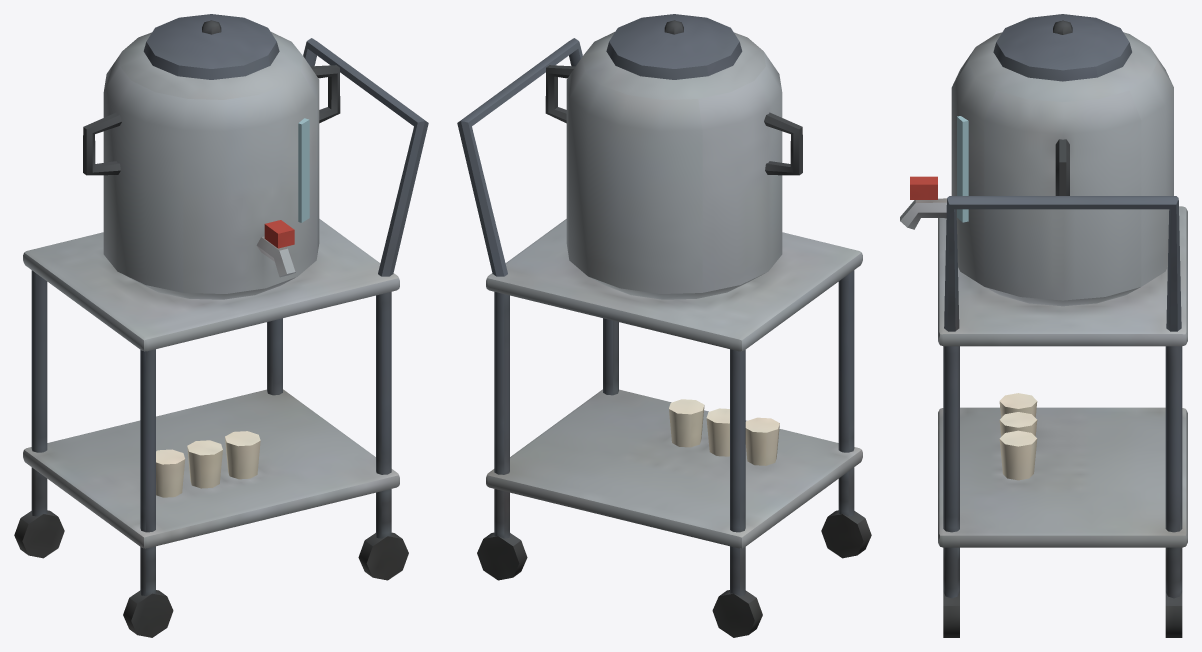
File: water_urn.glb
3 views of the same model, side by side, from view 1: azimuth 30°, elevation 25°; view 2: azimuth 150°, elevation 25°; view 3: azimuth 270°, elevation 25° (orthographic). The views are drawn at different scales.
Visible parts, largest first — view 1: water_urn; view 2: water_urn; view 3: water_urn.
Part boxes in pixels (x1,y1,x2,y2): water_urn: [14, 14, 428, 637]; water_urn: [457, 14, 871, 637]; water_urn: [900, 14, 1187, 637].
Bounding box in the file's own units: 0.6381 × 1.11 × 0.5179.
6 materials, 5 textured.
